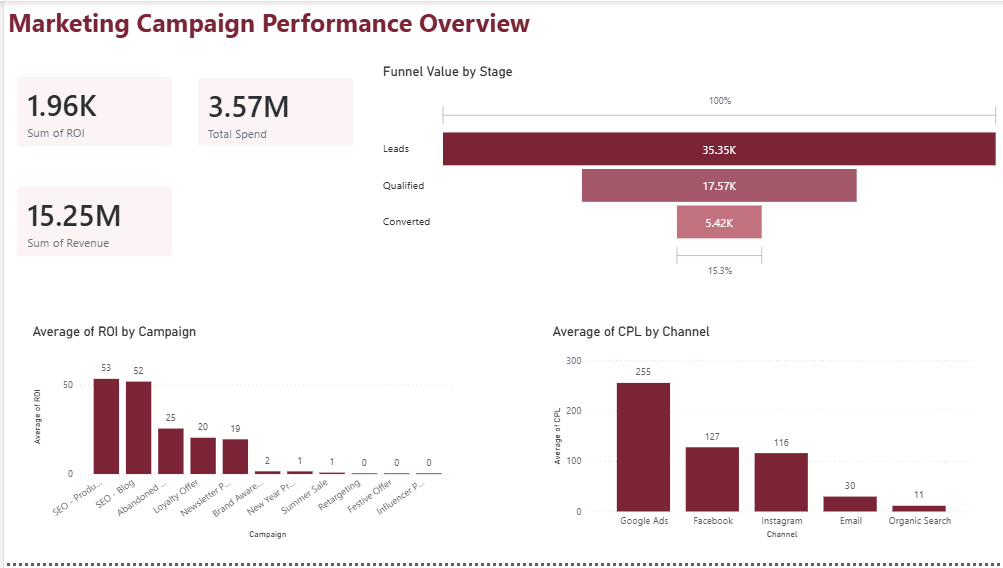

What the dashboard file says about the page in this screenshot:
{"tool":"powerbi","page":{"name":"Page 1","canvas":[1280,720],"ordinal":0},"visuals":[{"type":"funnel","fields":{"Category":["Funnel_Stage.Stage"],"Y":["Campaign_Data.Funnel Value"]},"box":[480,81,800.1,280.5],"z":0},{"type":"columnChart","fields":{"Category":["Campaign_Data.Channel"],"Y":["Avg(Campaign_Data.CPL)"]},"box":[697.3,412.9,551.2,280.5],"z":1000},{"type":"cardVisual","fields":{"Data":["Sum(Campaign_Data.Revenue)"]},"box":[0,221.3,232.7,122.3],"z":2000},{"type":"cardVisual","fields":{"Data":["Campaign_Data.Total Spend"]},"box":[231.1,83,233.1,120.5],"z":3000},{"type":"cardVisual","fields":{"Data":["Sum(Campaign_Data.ROI)"]},"box":[0,81,232.7,122.3],"z":4000},{"type":"columnChart","fields":{"Category":["Campaign_Data.Campaign"],"Y":["Avg(Campaign_Data.ROI)"]},"box":[31.6,412.9,551.2,280.5],"z":5000},{"type":"textbox","box":[0,0,697.3,65.2],"z":6000}]}

Visuals, with their boxes in screenshot pixels (x1, y1, x2, y2), scaled from the page's 1280x720 canvas onto the 1003x568 screenshot:
funnel - Funnel_Stage.Stage x Campaign_Data.Funnel Value: left=376, top=64, right=1002, bottom=285
columnChart - Campaign_Data.Channel x Avg(Campaign_Data.CPL): left=546, top=326, right=978, bottom=547
cardVisual - Sum(Campaign_Data.Revenue): left=0, top=175, right=182, bottom=271
cardVisual - Campaign_Data.Total Spend: left=181, top=65, right=364, bottom=161
cardVisual - Sum(Campaign_Data.ROI): left=0, top=64, right=182, bottom=160
columnChart - Campaign_Data.Campaign x Avg(Campaign_Data.ROI): left=25, top=326, right=457, bottom=547
textbox: left=0, top=0, right=546, bottom=51
